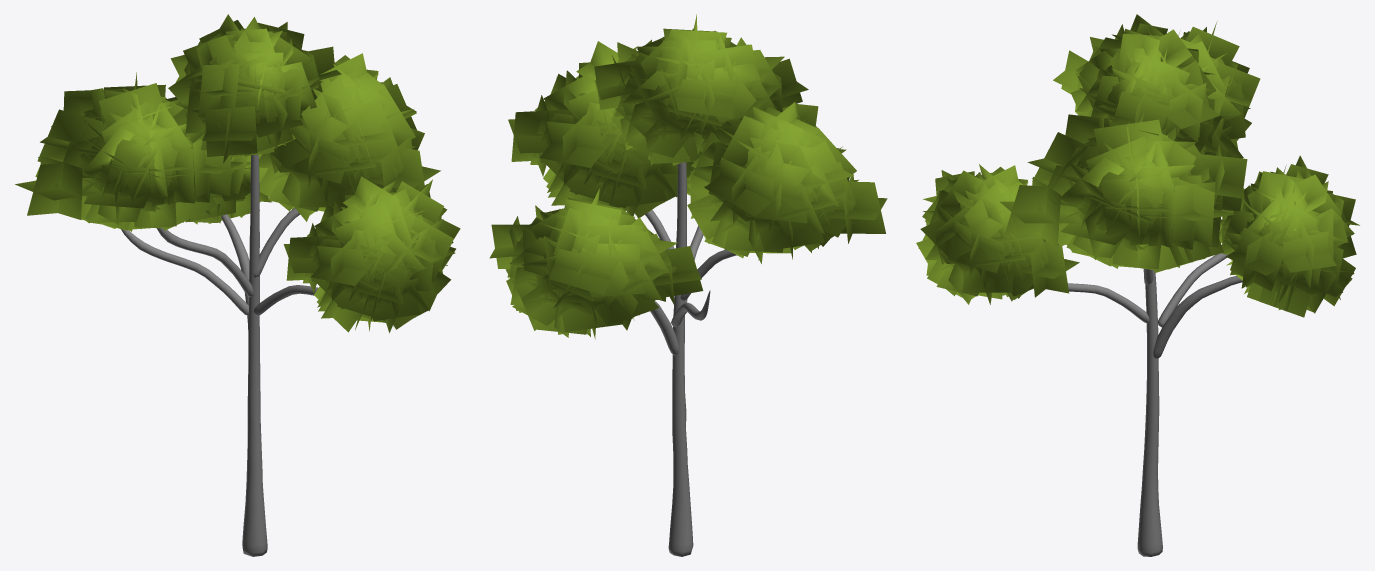
File: SM_tree_birch_03.fbx
3 views of the same model, side by side, from view 1: azimuth 30°, elevation 25°; view 2: azimuth 150°, elevation 25°; view 3: azimuth 270°, elevation 25° (orthographic). The views are drawn at different scales.
Parts seen in each view (by area): view 1: Plane141507; view 2: Plane141507; view 3: Plane141507.
Boxes of the visible parts, left/top/right/bottom form: Plane141507: left=15, top=14, right=460, bottom=556; Plane141507: left=489, top=14, right=887, bottom=556; Plane141507: left=916, top=14, right=1359, bottom=556.
Size of the model in its own units: 141 by 195 by 152.
